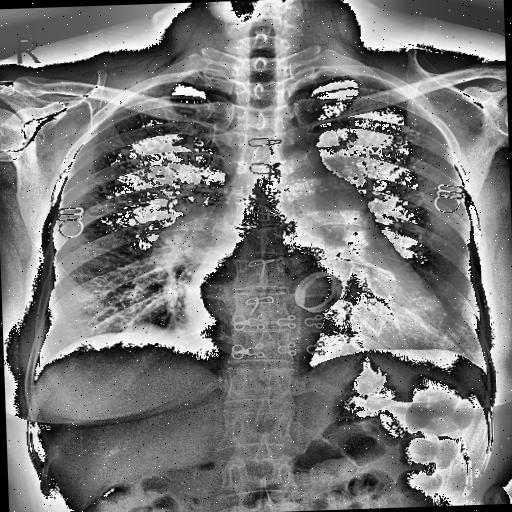3- Cardiomegaly: (180, 246, 452, 355), (178, 273, 458, 370), (182, 280, 450, 363)
9- Other lesion: (314, 166, 372, 230), (314, 170, 370, 223)
